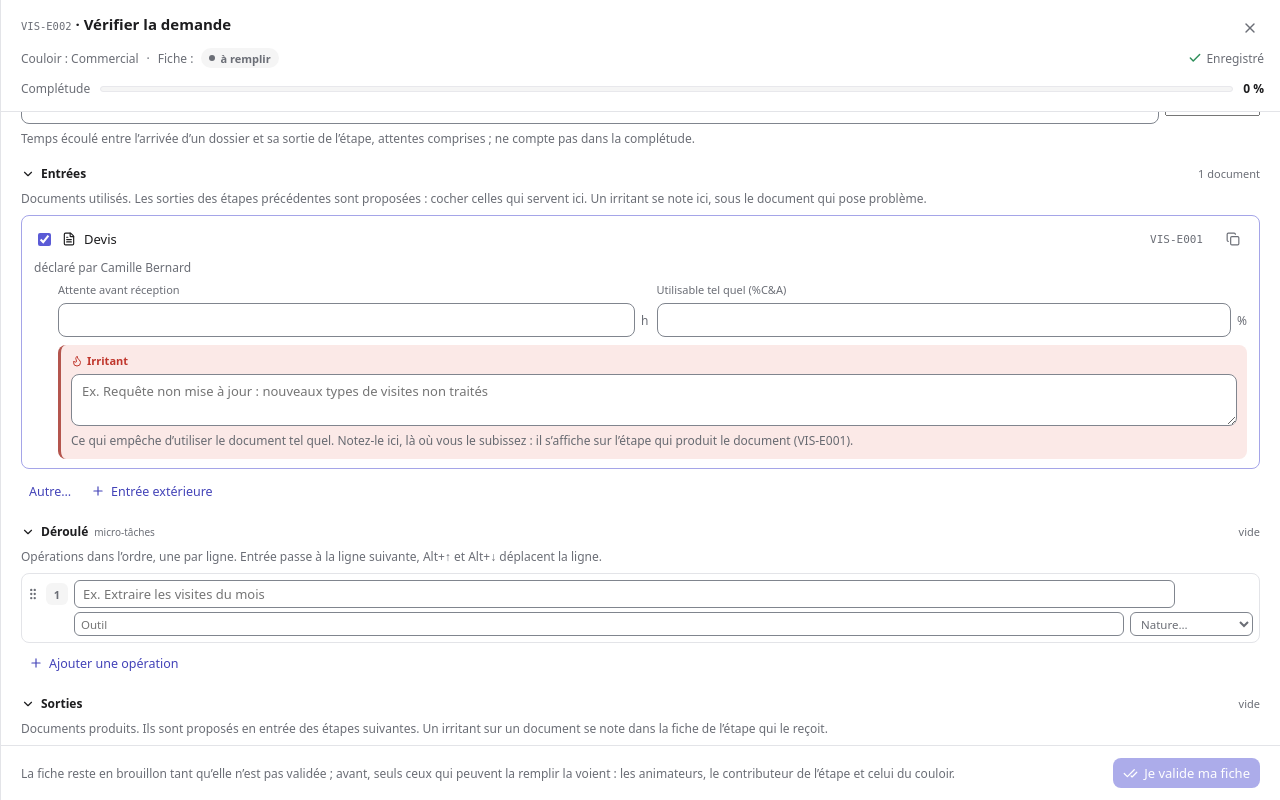
Test: the status button of a pain point in the sheet of the receiving step (ADR 116) › no button before the pain point exists on the host
The image size is (1280, 800).
(page scrolled)
Replace the text in the text box named "Irritant sur « Devis »" with "Sans numéro" at (654, 400), box left=71, top=374, right=1237, bottom=426
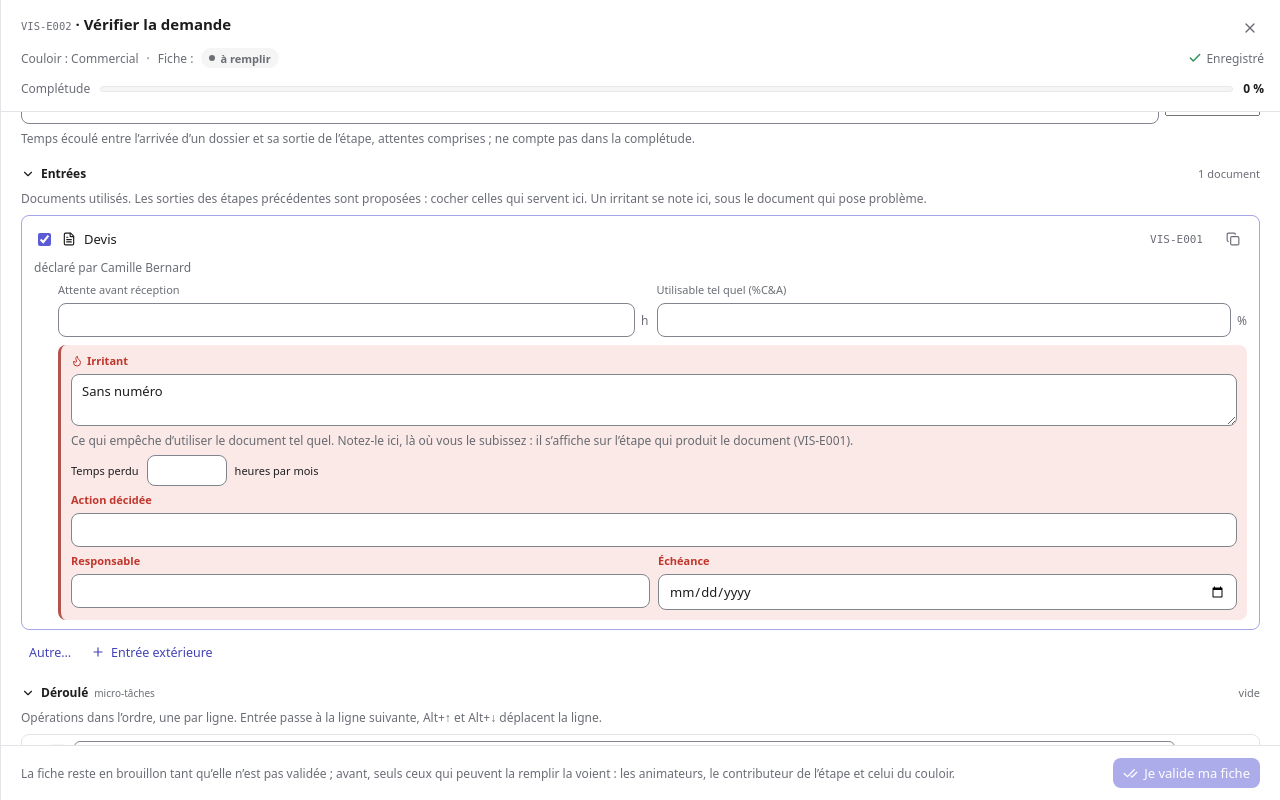
expect the number field named "Temps perdu à cause de « Devis », en heures par mois" is shown: met, box left=147, top=455, right=227, bottom=486
Leave the text box named "Irritant sur « Devis »", box left=71, top=374, right=1237, bottom=426
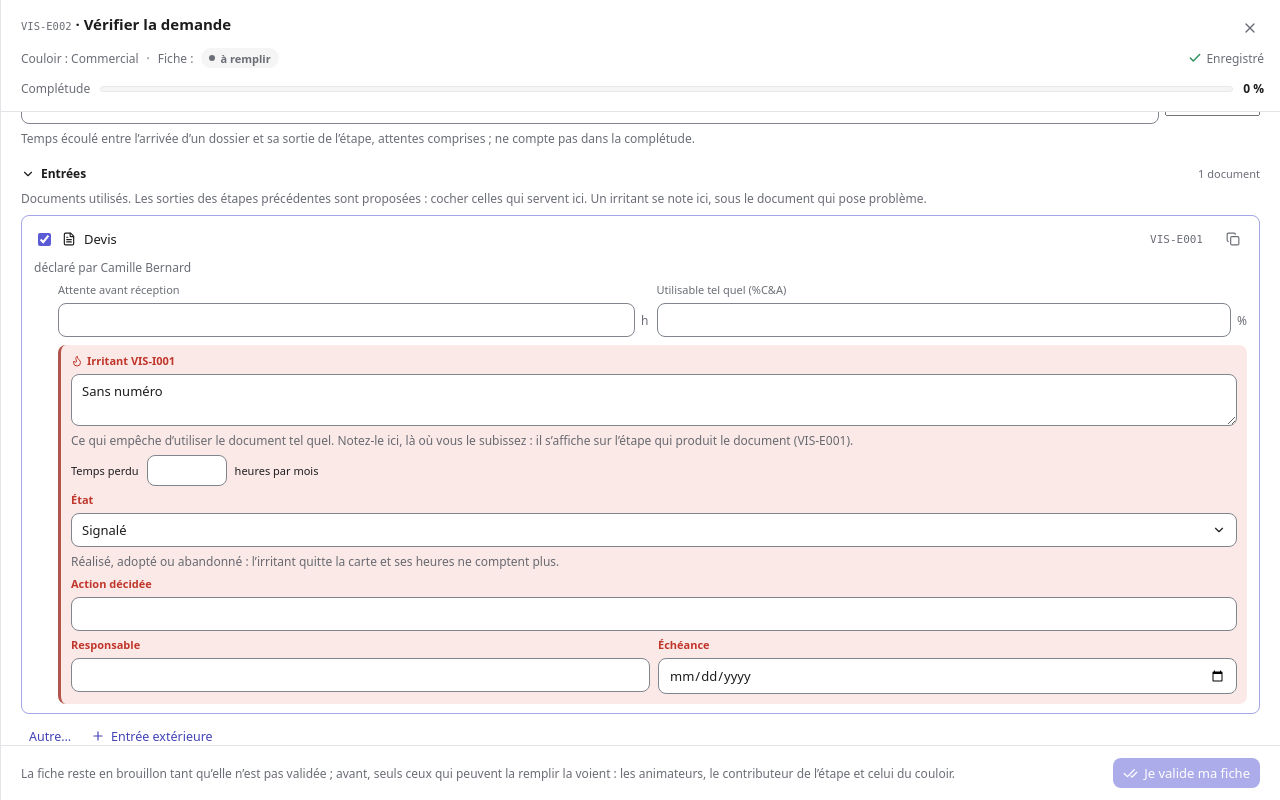
expect the button "Signalé" is shown: met, box left=71, top=513, right=1237, bottom=547
